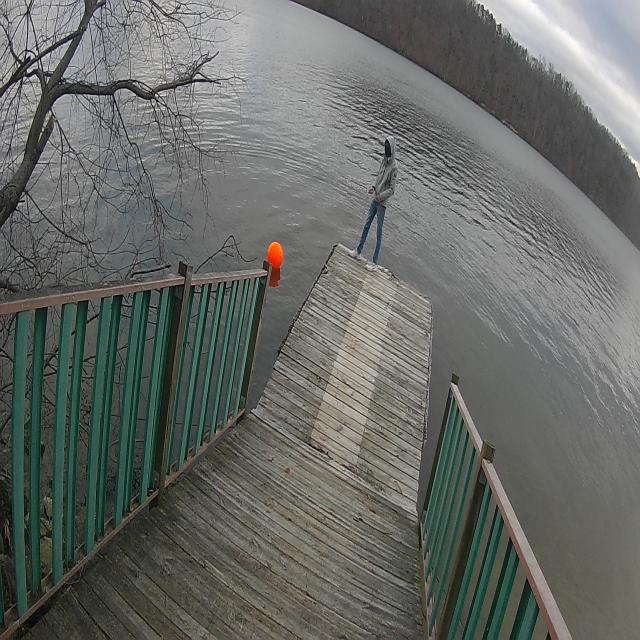Buoy: (265, 232, 286, 274)
